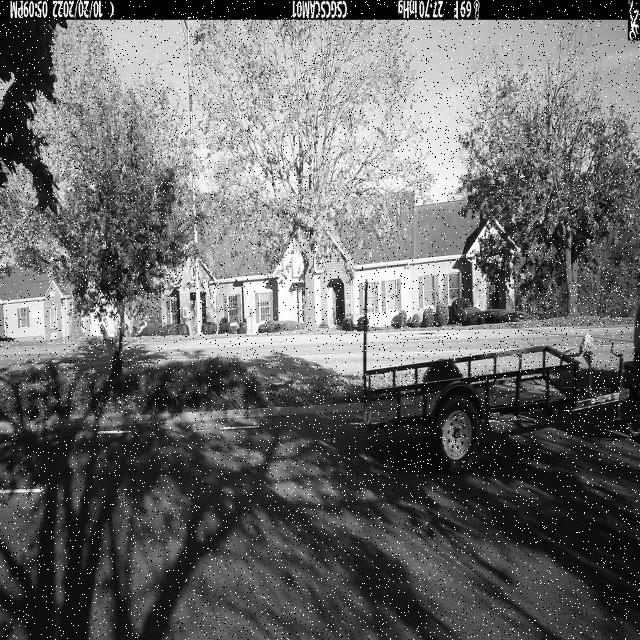Trailer: (363, 280, 631, 474)
